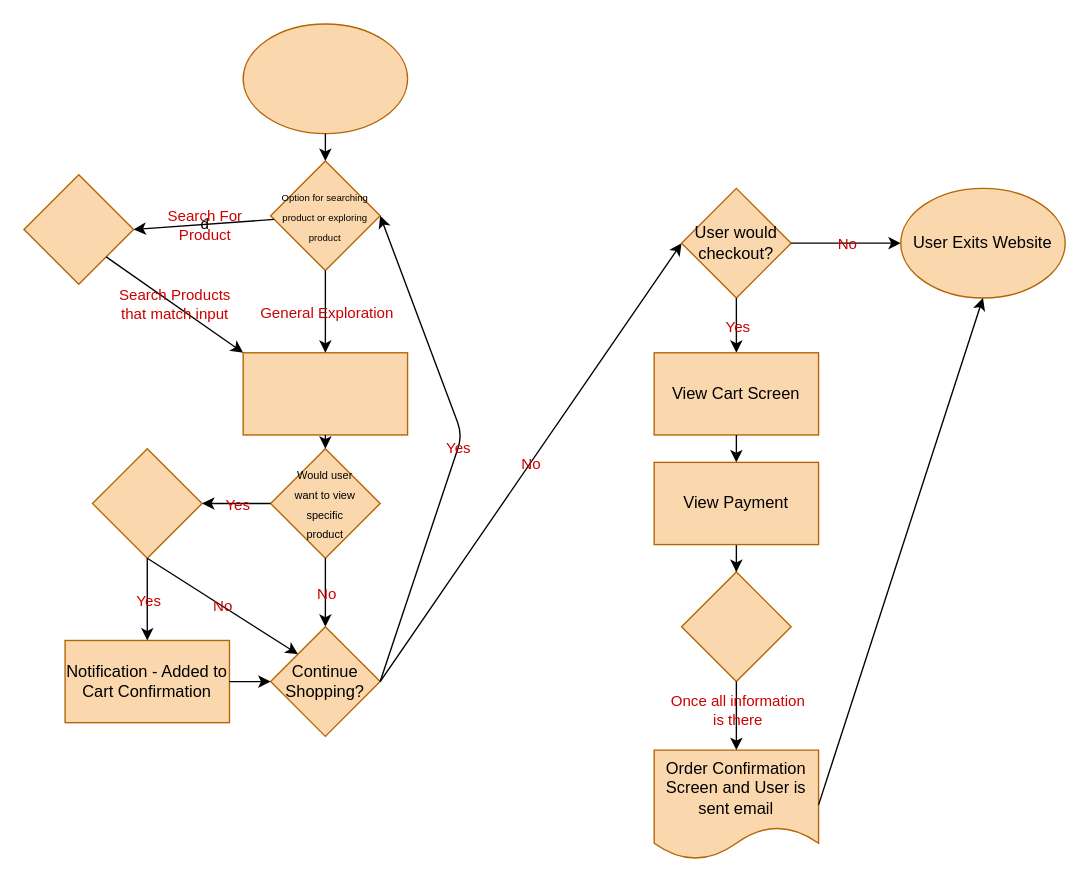
Some shapes in this 1089 by 884 pixel diagram are drawn without their labels. The shapes that lost their labels are listed below. From the top down, each one's centre as x and y in pixels, then its label:
[325,78]: Start/User Enters Website
[78,228]: Search Input
[325,393]: User begins to look over products (Search input ones if given parameter)
[146,502]: Open Product's Page. Add to cart?
[735,626]: User Add Payment Info
